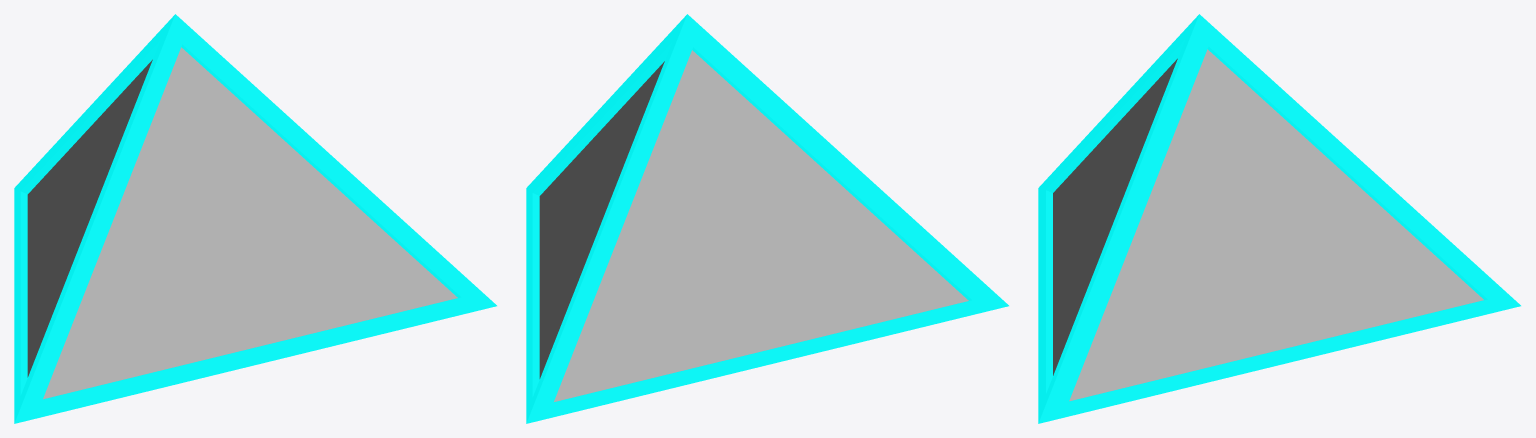
File: SFI0310012.fbx
3 views of the same model, side by side, from view 1: azimuth 30°, elevation 25°; view 2: azimuth 150°, elevation 25°; view 3: azimuth 270°, elevation 25° (orthographic).
Visible parts, largest first — view 1: smSFI0310012; view 2: smSFI0310012; view 3: smSFI0310012.
Boxes of the visible parts, x1,y1,x2,y2 form: smSFI0310012: (14,14,496,423); smSFI0310012: (526,14,1008,423); smSFI0310012: (1038,14,1520,423).
Size of the model in its own units: 173 by 100 by 150.
